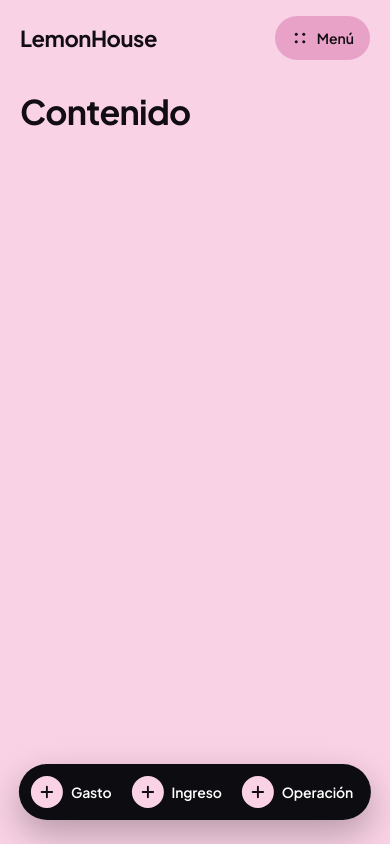
Test: Estructura › en el celular, el botón abre el menú y elegir una sección lo cierra
The image size is (390, 844).
Click the button "Menú". click: x=322, y=38
box: 275,16 -> 370,60
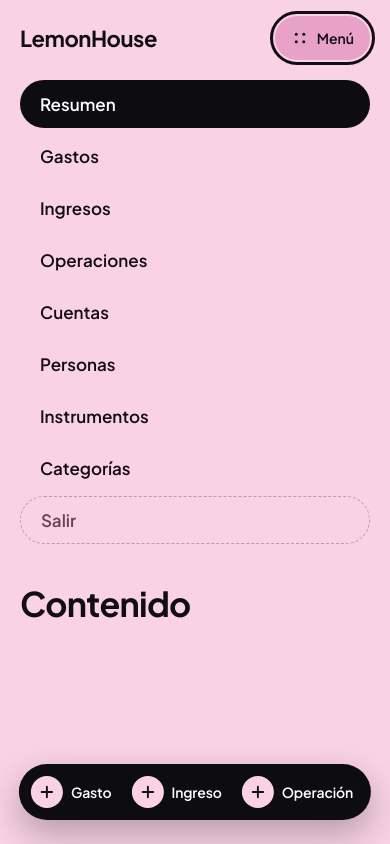
Check: the button "Menú" is expanded, box 275,16 -> 370,60
Click the link "Cuentas". click: x=74, y=312
box: 40,301 -> 109,323
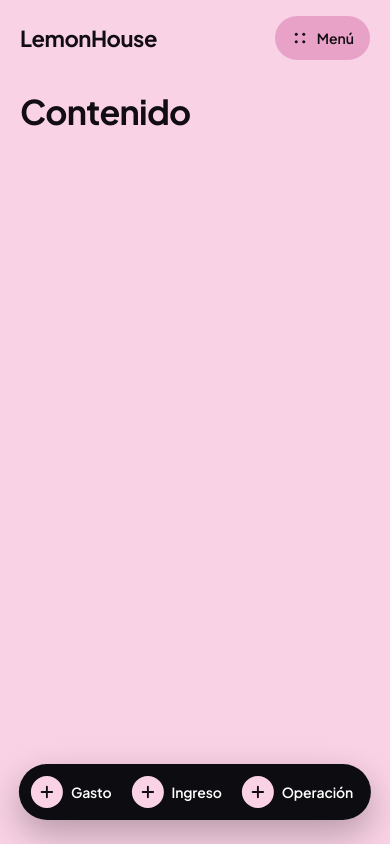
Check: the button "Menú" is collapsed, box 275,16 -> 370,60
